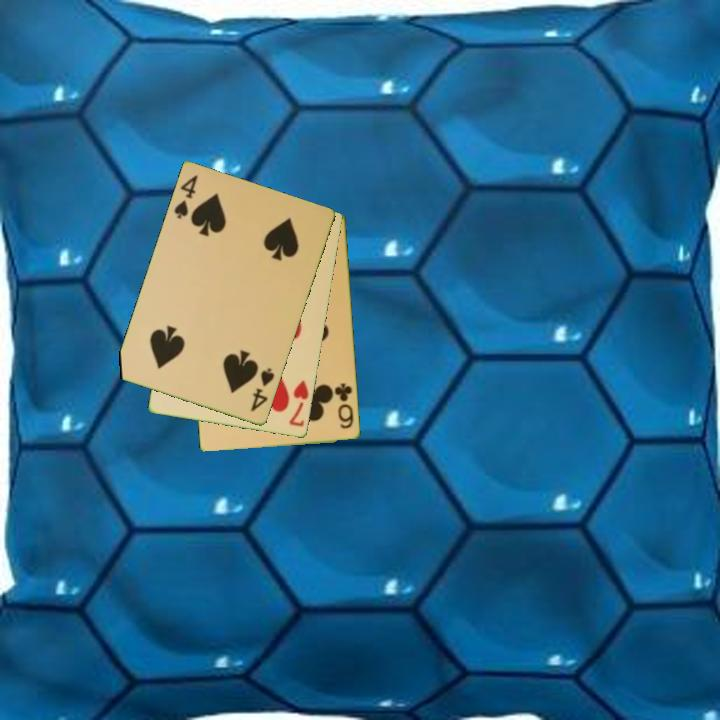4s: (247, 364, 278, 415), (171, 172, 201, 222)
6c: (331, 380, 357, 432)
7h: (286, 377, 312, 430)
